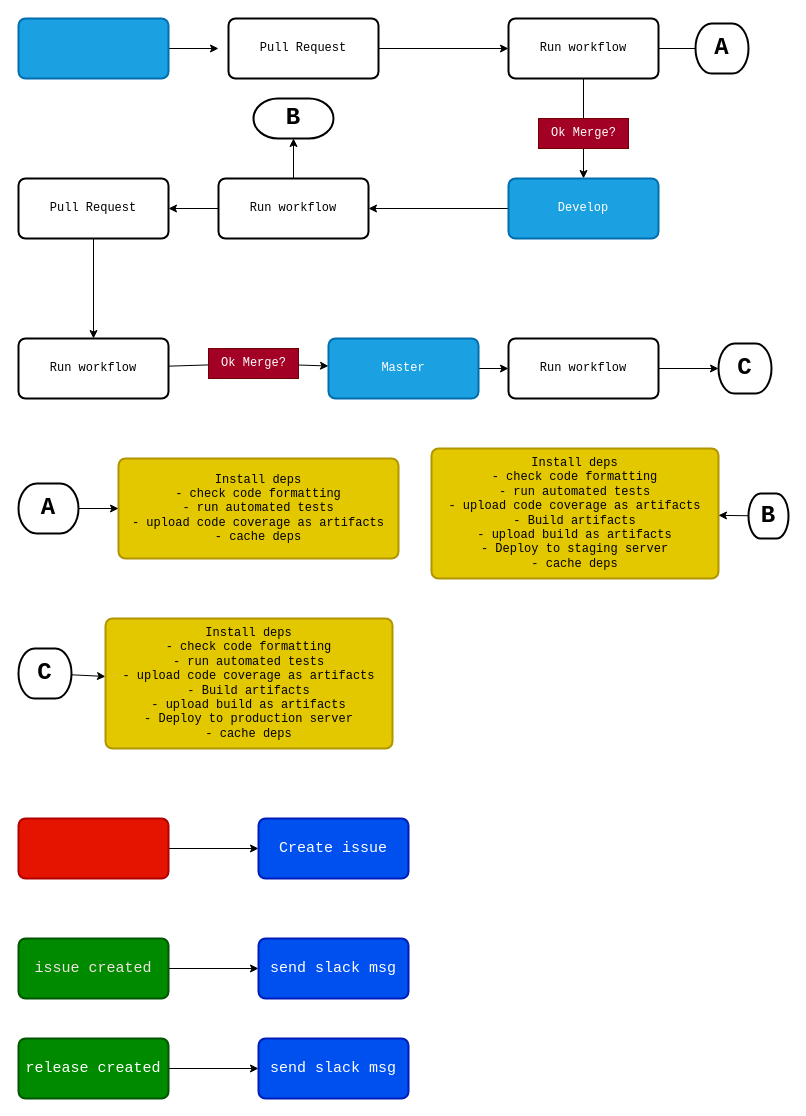
Image size: 806x1116. Some labels were removed from this diagram. Each missing label, with the centre of its shape:
"Feature" belongs at (93,48).
"Job Failure" belongs at (93,848).
